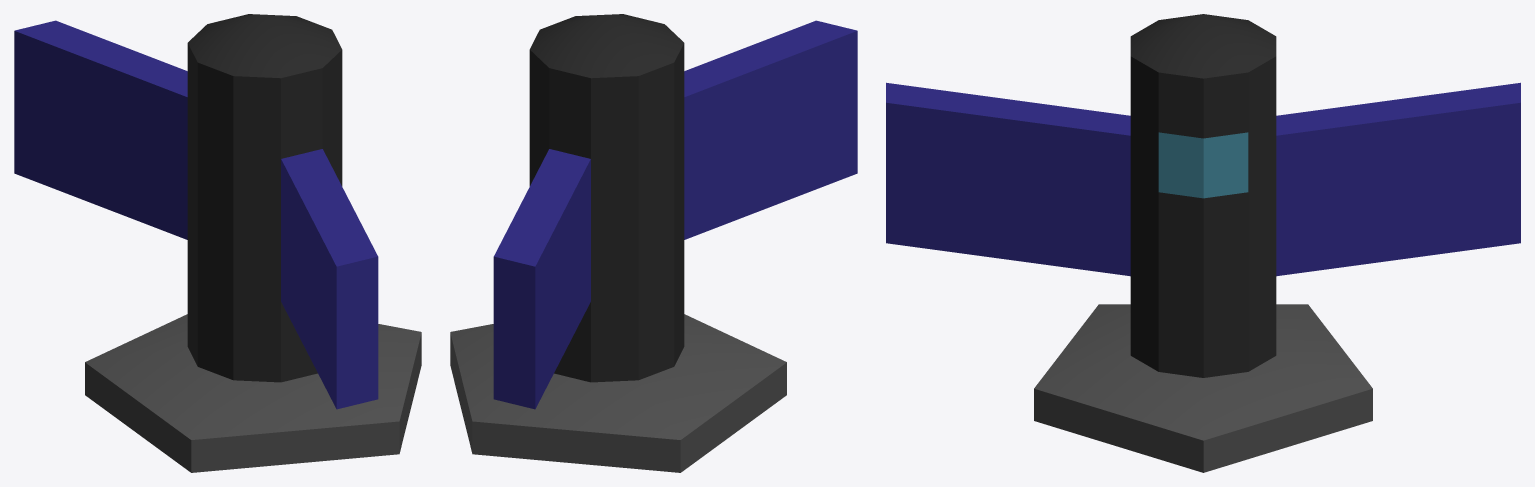
File: Sat.dae
The picture shows the model from 3 angles, left to right: view 1: azimuth 30°, elevation 25°; view 2: azimuth 150°, elevation 25°; view 3: azimuth 270°, elevation 25°; orthographic projection.
Parts seen in each view (by area): view 1: pCylinder2, pCylinder1; view 2: pCylinder2, pCylinder1; view 3: pCylinder2, pCylinder1.
Boxes of the visible parts, x1,y1,x2,y2 form: pCylinder2: (14, 14, 378, 409); pCylinder1: (85, 314, 421, 472); pCylinder2: (493, 14, 857, 409); pCylinder1: (450, 314, 786, 472); pCylinder2: (886, 14, 1520, 377); pCylinder1: (1034, 304, 1372, 472).
Bounding box in the file's own units: 9.05 × 11.83 × 17.81.
